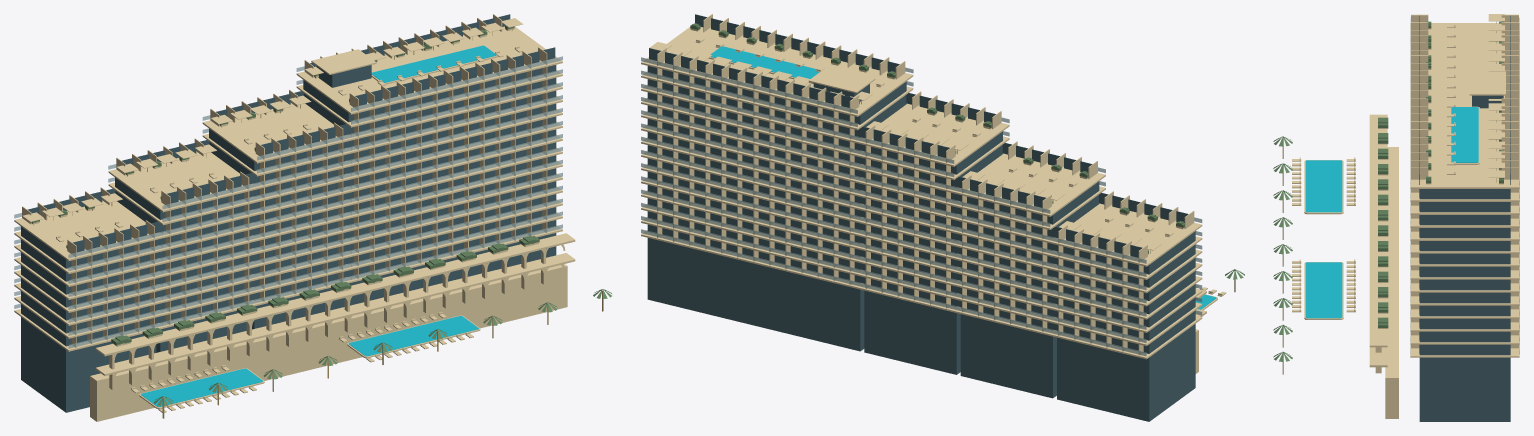
Rendered from hard-rock-hotel.glb.
3 renders of one model, left to right at view 1: azimuth 30°, elevation 25°; view 2: azimuth 150°, elevation 25°; view 3: azimuth 270°, elevation 25°, orthographic. The views are drawn at different scales.
Parts seen in each view (by area): view 1: Hard Rock Hauptfluegel, Arkaden, Hard Rock Terrassen West, Hard Rock Hotelfluegel, Hard Rock Terrassen Mitte, Poolbereiche; view 2: Hard Rock Hauptfluegel, Hard Rock Terrassen West, Hard Rock Hotelfluegel, Hard Rock Terrassen Mitte; view 3: Hard Rock Hauptfluegel, Arkaden, Poolbereiche, Hard Rock Terrassen Mitte, Hard Rock Terrassen West, Hard Rock Hotelfluegel.
Part boxes in pixels (x1,y1,x2,y2): Hard Rock Hauptfluegel: [296, 14, 562, 305]; Arkaden: [90, 233, 575, 421]; Hard Rock Terrassen West: [14, 187, 162, 412]; Hard Rock Hotelfluegel: [202, 89, 351, 329]; Hard Rock Terrassen Mitte: [108, 138, 257, 352]; Poolbereiche: [131, 289, 611, 418]; Hard Rock Hauptfluegel: [641, 14, 913, 351]; Hard Rock Terrassen West: [1050, 191, 1202, 421]; Hard Rock Hotelfluegel: [857, 91, 1009, 374]; Hard Rock Terrassen Mitte: [953, 141, 1105, 398]; Hard Rock Hauptfluegel: [1410, 71, 1519, 421]; Arkaden: [1369, 114, 1398, 418]; Poolbereiche: [1273, 136, 1355, 374]; Hard Rock Terrassen Mitte: [1410, 34, 1519, 63]; Hard Rock Terrassen West: [1410, 14, 1519, 42]; Hard Rock Hotelfluegel: [1410, 54, 1519, 83].
Size of the model in its own units: 126 by 61 by 54.26.
